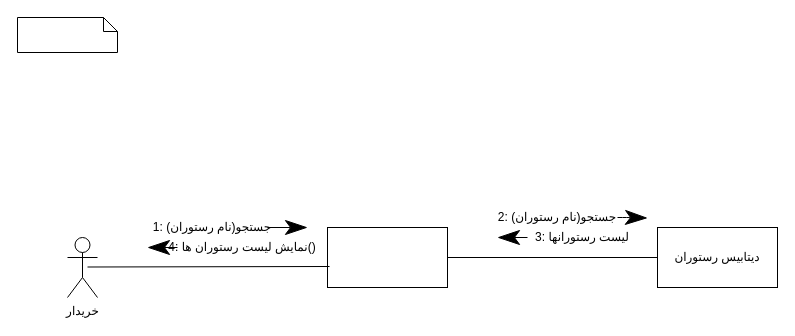
The diagram is 795 pixels wide and 336 high, and some of its shapes have lost their labels. The box of each missing label's shape, as (x1, y1, x2, y2) in pixels:
جستجوی خریدار: (16, 16, 118, 52)
سیستم: (326, 226, 448, 288)
